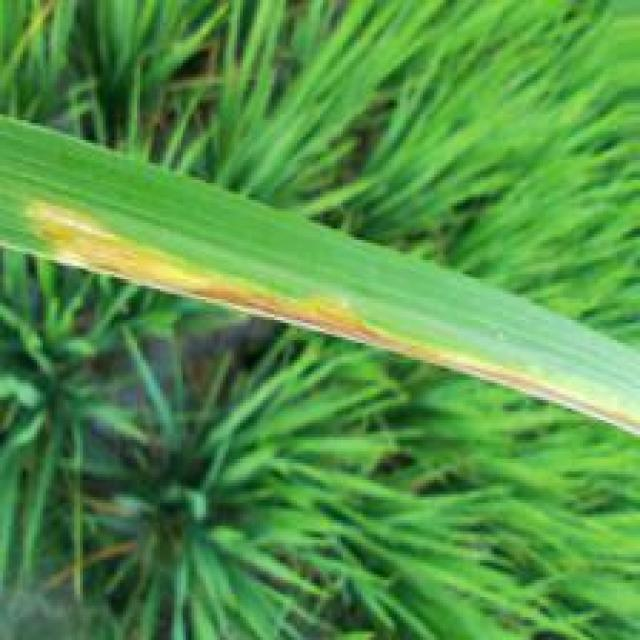Bacterial_Leaf_Blight: (28, 199, 640, 435)
